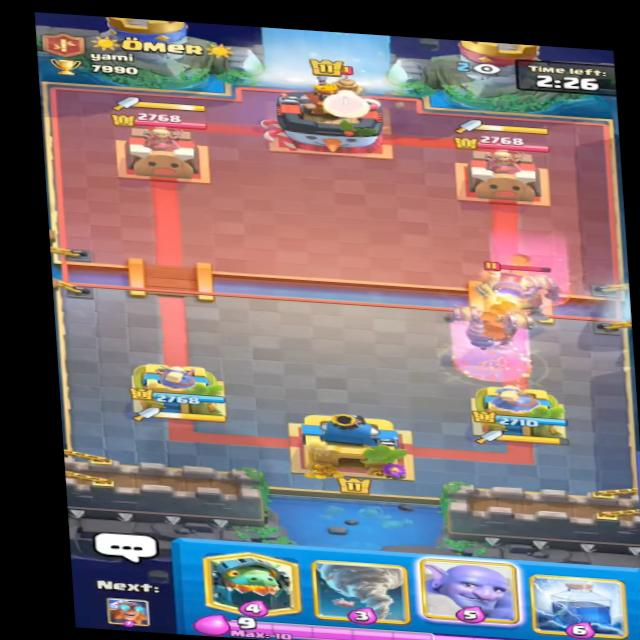goblin-machine: (471, 250, 573, 327)
prince: (312, 57, 374, 109)
